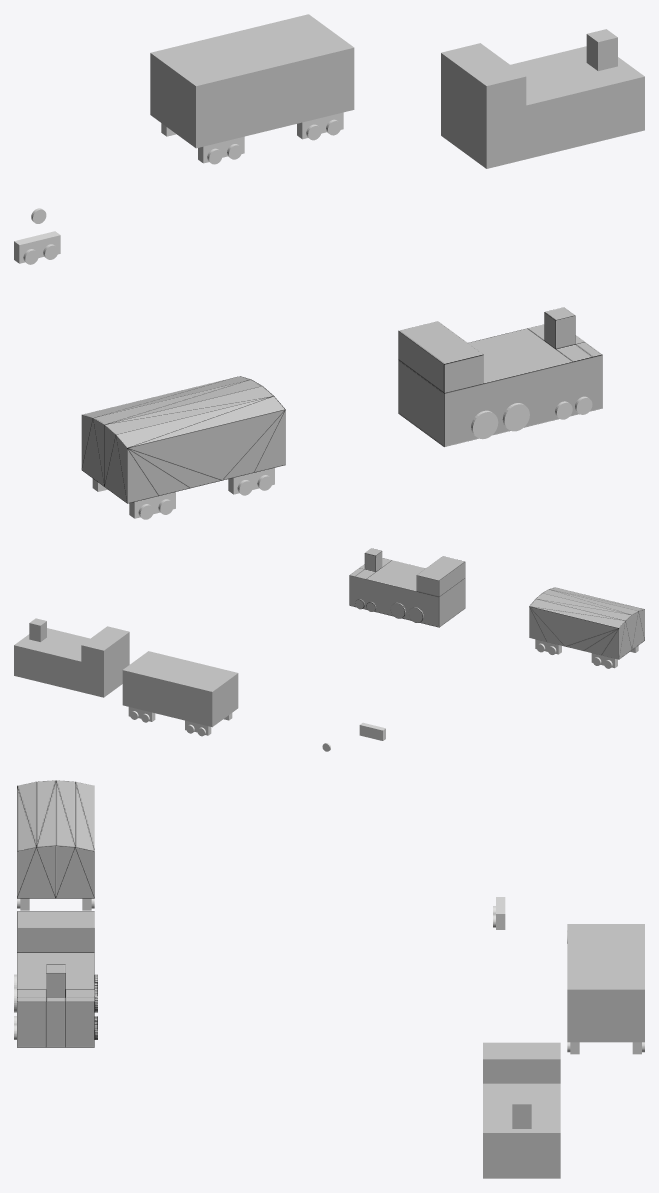
File: train-1b.dae
3 views of the same model, one above another, from view 1: azimuth 30°, elevation 25°; view 2: azimuth 150°, elevation 25°; view 3: azimuth 270°, elevation 25° (orthographic). The views are drawn at different scales.
Visible parts, largest first — view 1: train_car_Blank, train_car_0, train_car_1, train_car_1_old, train_wheel_set; view 2: train_car_Blank, train_car_0, train_car_1, train_car_1_old, train_wheel_set; view 3: train_car_1, train_car_1_old, train_car_Blank, train_car_0.
Part boxes in pixels (x1=…): train_car_Blank: x1=150, y1=14, x2=354, y2=164; train_car_0: x1=81, y1=376, x2=285, y2=519; train_car_1: x1=398, y1=307, x2=602, y2=446; train_car_1_old: x1=441, y1=29, x2=644, y2=168; train_wheel_set: x1=14, y1=231, x2=60, y2=264; train_car_Blank: x1=122, y1=651, x2=238, y2=736; train_car_0: x1=529, y1=587, x2=644, y2=668; train_car_1: x1=349, y1=548, x2=465, y2=627; train_car_1_old: x1=14, y1=618, x2=129, y2=697; train_wheel_set: x1=359, y1=722, x2=385, y2=740; train_car_1: x1=14, y1=911, x2=97, y2=1047; train_car_1_old: x1=483, y1=1042, x2=560, y2=1178; train_car_Blank: x1=567, y1=924, x2=644, y2=1054; train_car_0: x1=17, y1=780, x2=94, y2=910.
Size of the model in its own units: 5 by 4.06 by 0.6351.
